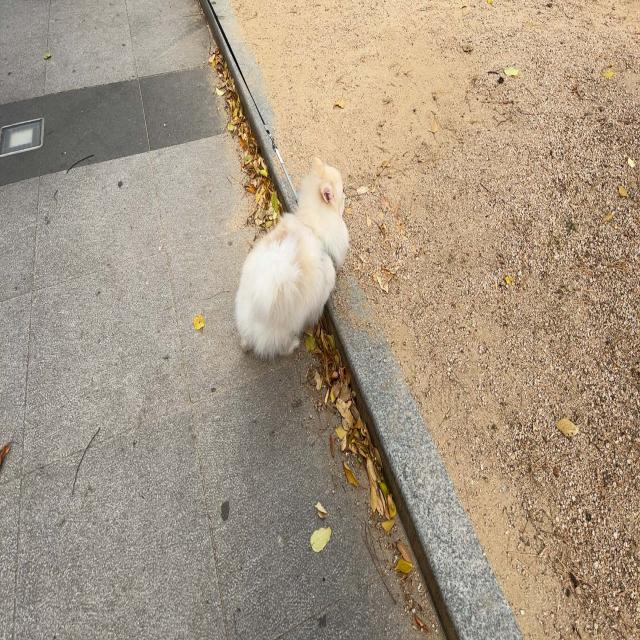Dog: (234, 154, 349, 362)
